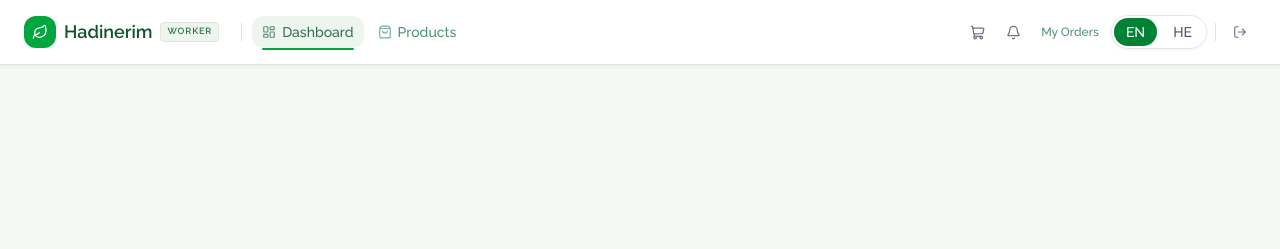
it: WorkerNavbar — bell / notification panel › opens the notification panel on bell click
Step 1. Click the button named "task notifications" → (1013, 32), box top-left (997, 16), bottom-right (1029, 48)
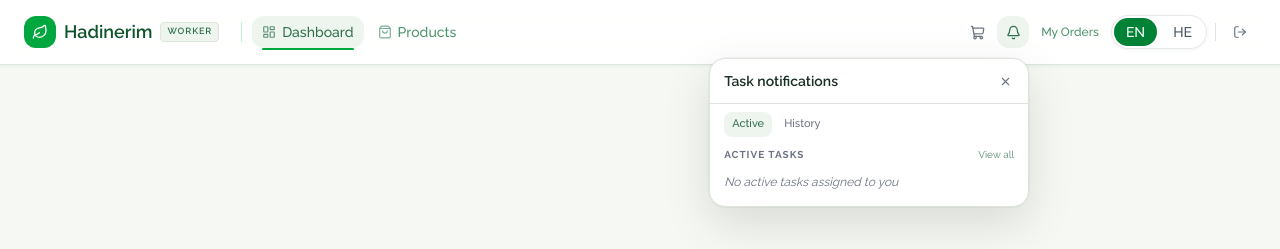
Check: the text "No active tasks assigned to you" is shown, box top-left (724, 174), bottom-right (898, 188)
